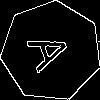A: (26, 26, 81, 74)
